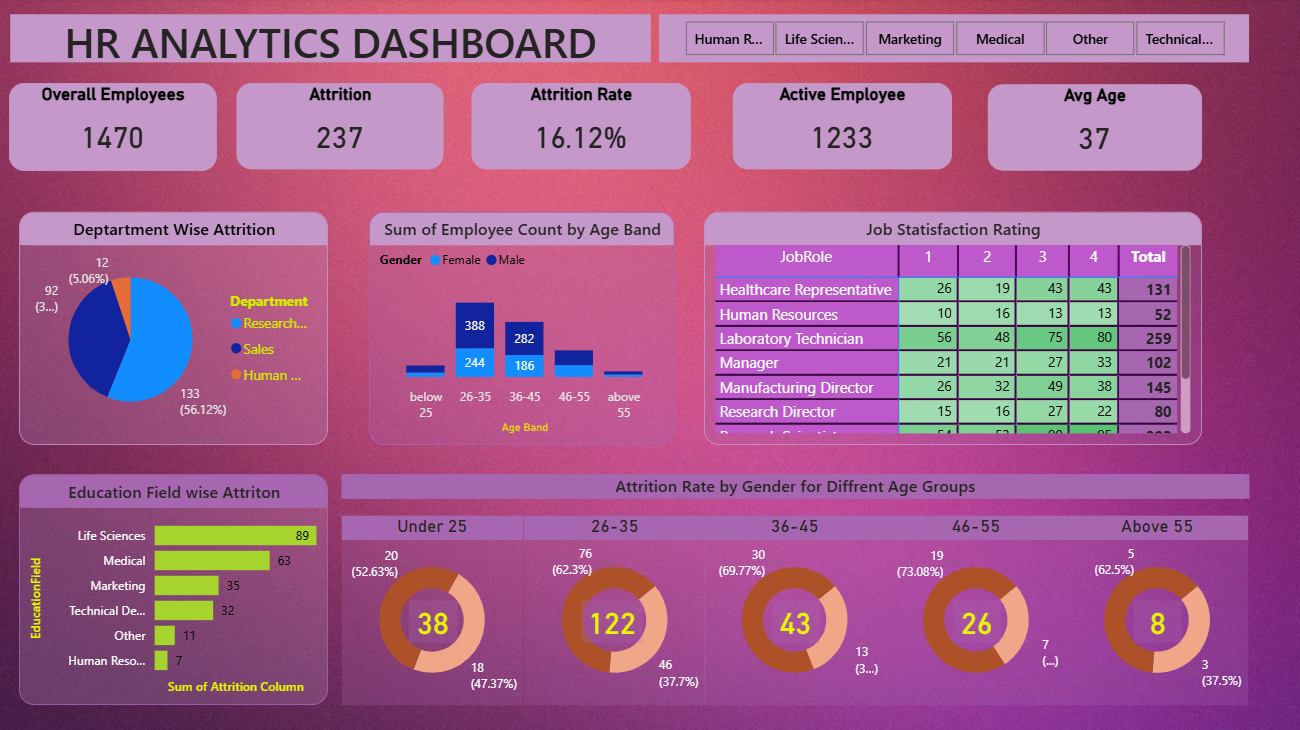

What the dashboard file says about the page in this screenshot:
{"tool":"powerbi","page":{"name":"Page 1","canvas":[1280,720],"ordinal":0},"visuals":[{"type":"card","title":"Overall Employees","fields":{"Values":["Sum(HR-Employee-Attrition-All.EmployeeCount)"]},"box":[10,83,204,86],"z":0},{"type":"card","title":"Attrition","fields":{"Values":["Sum(HR-Employee-Attrition-All.Attrition Column)"]},"box":[233.3,83.3,203.3,85],"z":1000},{"type":"card","title":"Attrition Rate","fields":{"Values":["HR-Employee-Attrition-All.Attrition Rate"]},"box":[463.3,83.3,215,85],"z":2000},{"type":"card","title":"Active Employee","fields":{"Values":["HR-Employee-Attrition-All.Active Employee"]},"box":[720,83.3,215,85],"z":3000},{"type":"card","title":"Avg Age","fields":{"Values":["Avg(HR-Employee-Attrition-All.Age)"]},"box":[970,85,210,85],"z":4000},{"type":"pieChart","title":"Deptartment Wise Attrition ","fields":{"Category":["HR-Employee-Attrition-All.Department"],"Y":["Sum(HR-Employee-Attrition-All.Attrition Column)"]},"box":[19.5,210.3,303.4,228.7],"z":5000},{"type":"columnChart","title":"Sum of Employee Count by Age Band","fields":{"Category":["HR-Employee-Attrition-All.Age Band"],"Y":["Sum(HR-Employee-Attrition-All.EmployeeCount)"],"Series":["HR-Employee-Attrition-All.Gender"]},"box":[363.2,210.3,300,228.7],"z":6000},{"type":"pivotTable","title":"Job Statisfaction Rating","fields":{"Rows":["HR-Employee-Attrition-All.JobRole"],"Columns":["HR-Employee-Attrition-All.JobSatisfaction"],"Values":["Sum(HR-Employee-Attrition-All.EmployeeCount)"]},"box":[692,210.3,488.5,228.7],"z":6001},{"type":"barChart","title":"Education Field wise Attriton","fields":{"Category":["HR-Employee-Attrition-All.EducationField"],"Y":["Sum(HR-Employee-Attrition-All.Attrition Column)"]},"box":[19.5,467.8,303.4,226.4],"z":6002},{"type":"donutChart","title":"Under 25","fields":{"Category":["HR-Employee-Attrition-All.Gender"],"Y":["Sum(HR-Employee-Attrition-All.Attrition Column)"],"Series":["HR-Employee-Attrition-All.Age Band"]},"box":[336.8,508,178.2,186.2],"z":6003},{"type":"textbox","title":"Attrition Rate by Gender for Diffrent Age Groups","box":[336.8,467.8,890.8,24.1],"z":6008},{"type":"donutChart","title":"26-35","fields":{"Category":["HR-Employee-Attrition-All.Gender"],"Y":["Sum(HR-Employee-Attrition-All.Attrition Column)"],"Series":["HR-Employee-Attrition-All.Age Band"]},"box":[514.9,508,178.2,186.2],"z":6009},{"type":"donutChart","title":"36-45","fields":{"Category":["HR-Employee-Attrition-All.Gender"],"Y":["Sum(HR-Employee-Attrition-All.Attrition Column)"],"Series":["HR-Employee-Attrition-All.Age Band"]},"box":[692,508,178.2,186.2],"z":6010},{"type":"donutChart","title":"46-55","fields":{"Category":["HR-Employee-Attrition-All.Gender"],"Y":["Sum(HR-Employee-Attrition-All.Attrition Column)"],"Series":["HR-Employee-Attrition-All.Age Band"]},"box":[870.1,508,178.2,186.2],"z":6011},{"type":"donutChart","title":"Above 55","fields":{"Category":["HR-Employee-Attrition-All.Gender"],"Y":["Sum(HR-Employee-Attrition-All.Attrition Column)"],"Series":["HR-Employee-Attrition-All.Age Band"]},"box":[1048.3,508,178.2,186.2],"z":6012},{"type":"card","fields":{"Values":["Sum(HR-Employee-Attrition-All.Attrition Column)"]},"box":[402.3,590.8,47.1,41.4],"z":6013},{"type":"card","fields":{"Values":["Sum(HR-Employee-Attrition-All.Attrition Column)"]},"box":[571.3,590.8,59.8,41.4],"z":6014},{"type":"card","fields":{"Values":["Sum(HR-Employee-Attrition-All.Attrition Column)"]},"box":[758.6,590.8,47.1,41.4],"z":6015},{"type":"card","fields":{"Values":["Sum(HR-Employee-Attrition-All.Attrition Column)"]},"box":[936.8,590.8,47.1,41.4],"z":6016},{"type":"card","fields":{"Values":["Sum(HR-Employee-Attrition-All.Attrition Column)"]},"box":[1113.8,590.8,47.1,41.4],"z":6017},{"type":"textbox","title":"HR ANALYTICS DASHBOARD","box":[11.5,16.1,628.7,47.1],"z":6018},{"type":"slicer","fields":{"Values":["HR-Employee-Attrition-All.EducationField"]},"box":[648.3,16.1,579.3,47.1],"z":6019}]}

Visuals, with their boxes in screenshot pixels (x1, y1, x2, y2), scaled from the page's 1280x720 canvas onto the 1300x730 screenshot:
"Overall Employees" card: BBox(10, 84, 217, 171)
"Attrition" card: BBox(237, 84, 443, 171)
"Attrition Rate" card: BBox(471, 84, 689, 171)
"Active Employee" card: BBox(731, 84, 950, 171)
"Avg Age" card: BBox(985, 86, 1198, 172)
"Deptartment Wise Attrition " pieChart: BBox(20, 213, 328, 445)
"Sum of Employee Count by Age Band" columnChart: BBox(369, 213, 674, 445)
"Job Statisfaction Rating" pivotTable: BBox(703, 213, 1199, 445)
"Education Field wise Attriton" barChart: BBox(20, 474, 328, 704)
"Under 25" donutChart: BBox(342, 515, 523, 704)
"Attrition Rate by Gender for Diffrent Age Groups" textbox: BBox(342, 474, 1247, 499)
"26-35" donutChart: BBox(523, 515, 704, 704)
"36-45" donutChart: BBox(703, 515, 884, 704)
"46-55" donutChart: BBox(884, 515, 1065, 704)
"Above 55" donutChart: BBox(1065, 515, 1246, 704)
card - Sum(HR-Employee-Attrition-All.Attrition Column): BBox(409, 599, 456, 641)
card - Sum(HR-Employee-Attrition-All.Attrition Column): BBox(580, 599, 641, 641)
card - Sum(HR-Employee-Attrition-All.Attrition Column): BBox(770, 599, 818, 641)
card - Sum(HR-Employee-Attrition-All.Attrition Column): BBox(951, 599, 999, 641)
card - Sum(HR-Employee-Attrition-All.Attrition Column): BBox(1131, 599, 1179, 641)
"HR ANALYTICS DASHBOARD" textbox: BBox(12, 16, 650, 64)
slicer - HR-Employee-Attrition-All.EducationField: BBox(658, 16, 1247, 64)
